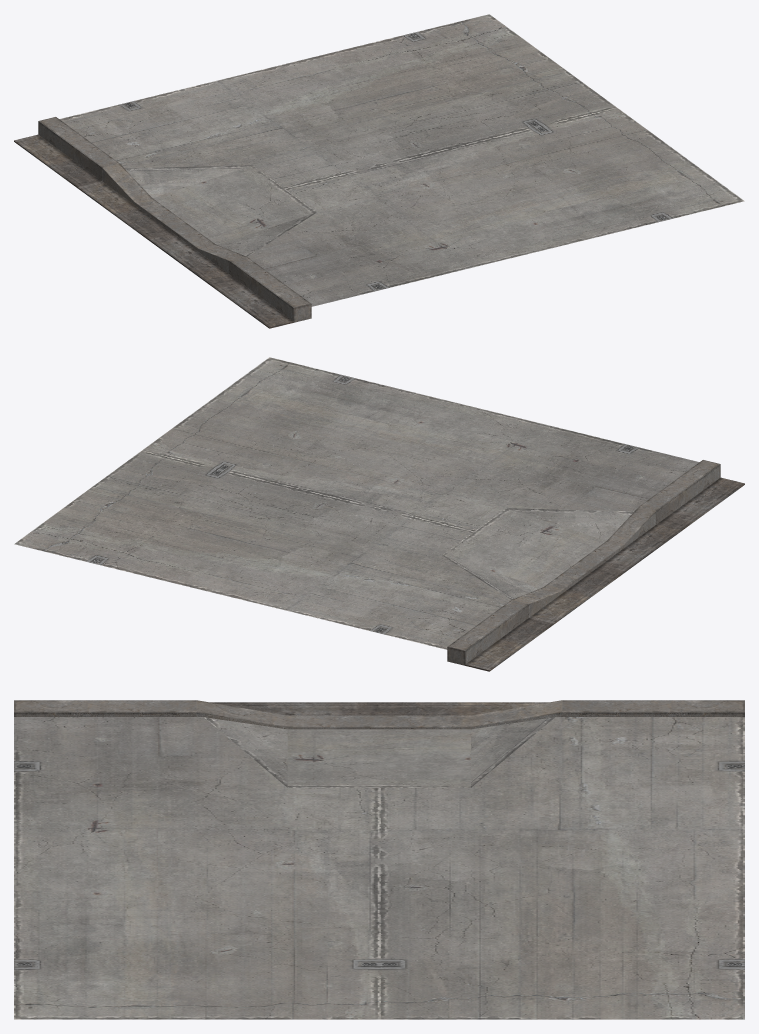
The model's file is CP_Curbstone_Cut.fbx.
The picture shows the model from 3 angles, top to bottom: view 1: azimuth 30°, elevation 25°; view 2: azimuth 150°, elevation 25°; view 3: azimuth 270°, elevation 25°; orthographic projection. The views are drawn at different scales.
Visible parts, largest first — view 1: CP_Curbstone_Cut; view 2: CP_Curbstone_Cut; view 3: CP_Curbstone_Cut.
Boxes of the visible parts, bbox=[...] form: CP_Curbstone_Cut: bbox=[14, 14, 744, 328]; CP_Curbstone_Cut: bbox=[14, 357, 744, 671]; CP_Curbstone_Cut: bbox=[14, 700, 744, 1019].
Size of the model in its own units: 430 by 12.77 by 400.
